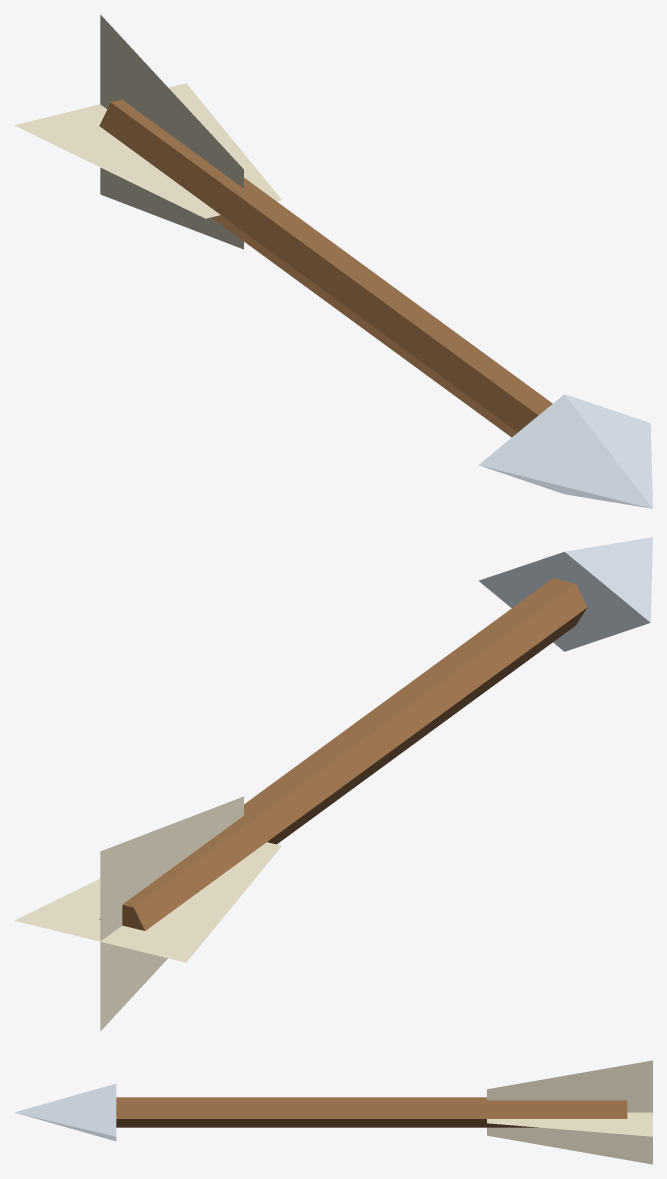
File: crossbow_bolt.glb
3 views of the same model, one above another, from view 1: azimuth 30°, elevation 25°; view 2: azimuth 150°, elevation 25°; view 3: azimuth 270°, elevation 25° (orthographic). The views are drawn at different scales.
Parts seen in each view (by area): view 1: crossbow_bolt; view 2: crossbow_bolt; view 3: crossbow_bolt.
Boxes of the visible parts, x1,y1,x2,y2 form: crossbow_bolt: [14, 14, 652, 508]; crossbow_bolt: [14, 537, 652, 1031]; crossbow_bolt: [14, 1060, 652, 1164].
Bounding box in the file's own units: 0.09 × 0.09 × 0.5.
